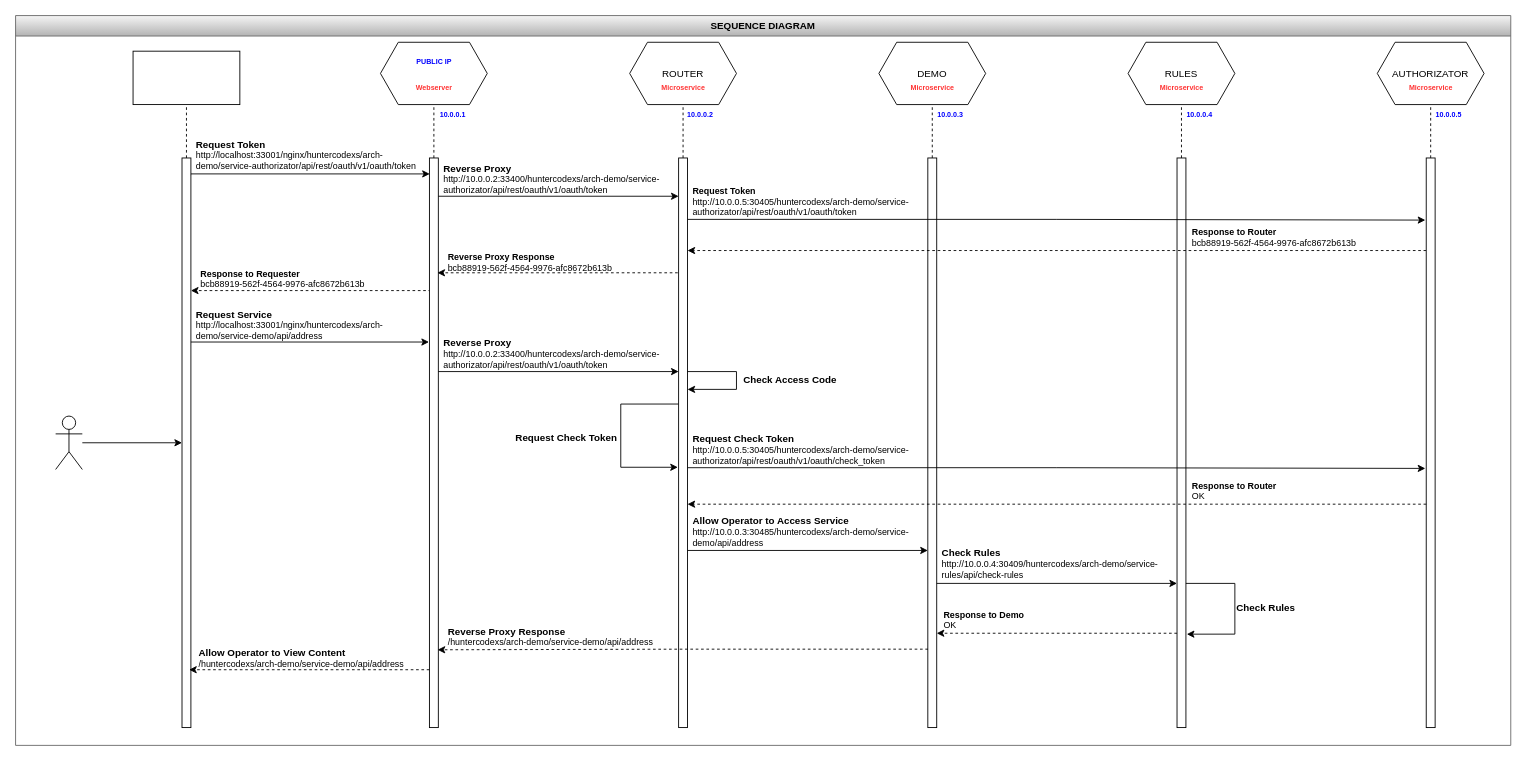
Some shapes in this 1526 by 761 pixel diagram are drawn without their labels. Each missing label, with the box of its shape:
NGINX: (380, 41, 487, 105)
OPERATOR: (55, 415, 82, 469)
REQUESTER: (132, 50, 240, 105)
